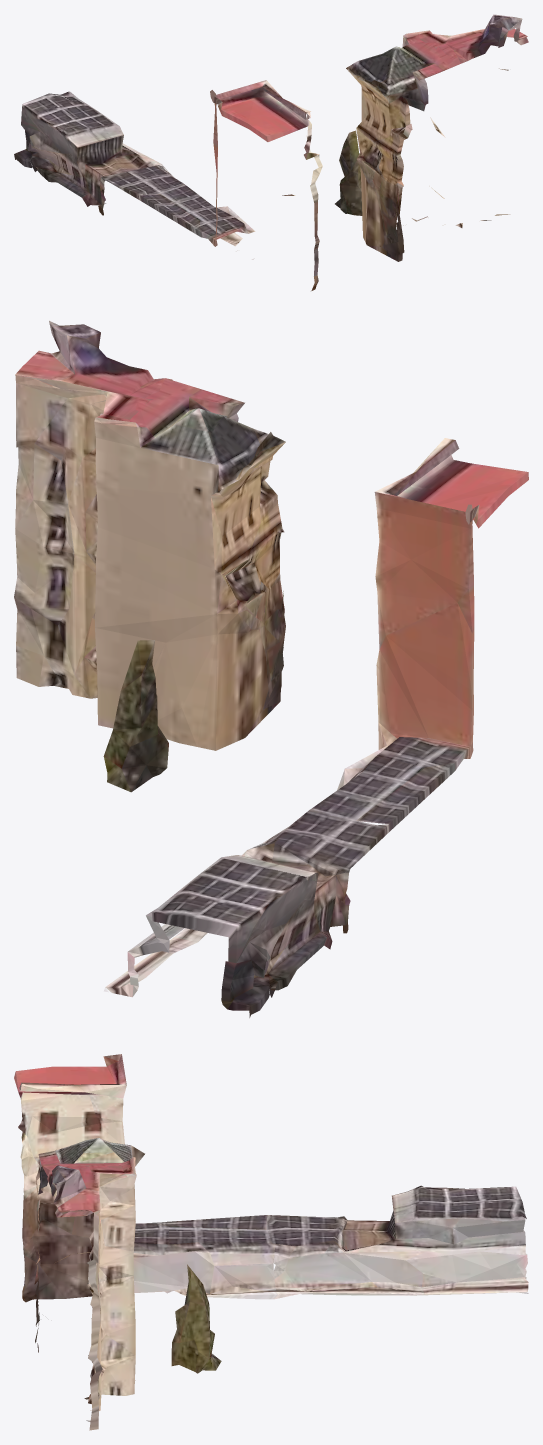
3 renders of one model, top to bottom at view 1: azimuth 30°, elevation 25°; view 2: azimuth 150°, elevation 25°; view 3: azimuth 270°, elevation 25°, orthographic. The views are drawn at different scales.
Visible parts, largest first — view 1: Mesh_0; view 2: Mesh_0; view 3: Mesh_0.
Boxes of the visible parts, x1,y1,x2,y2 form: Mesh_0: [14, 14, 528, 290]; Mesh_0: [14, 320, 528, 1017]; Mesh_0: [14, 1054, 528, 1430].
Bounding box in the file's own units: 33.33 × 21.22 × 38.95.
1 material, 1 textured.
